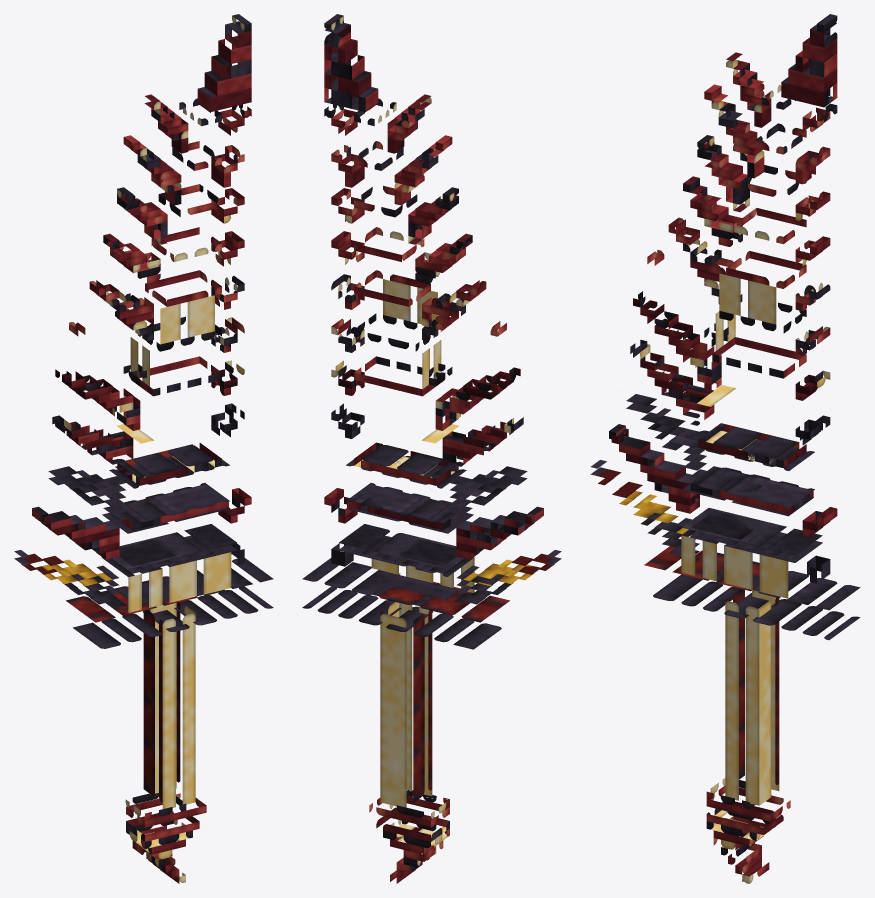
File: dragonspine.obj
The picture shows the model from 3 angles, left to right: view 1: azimuth 30°, elevation 25°; view 2: azimuth 150°, elevation 25°; view 3: azimuth 330°, elevation 25°; orthographic projection. The views are drawn at different scales.
Visible parts, largest first — view 1: lit, fire; view 2: lit, fire; view 3: lit, fire.
Part boxes in pixels (x1,y1,x2,y2): lit: [14, 14, 273, 883]; fire: [111, 98, 228, 573]; lit: [302, 14, 561, 883]; fire: [347, 98, 464, 573]; lit: [590, 14, 860, 883]; fire: [690, 84, 813, 559].
Bounding box in the file's own units: 1.09 × 3.66 × 0.2375.
